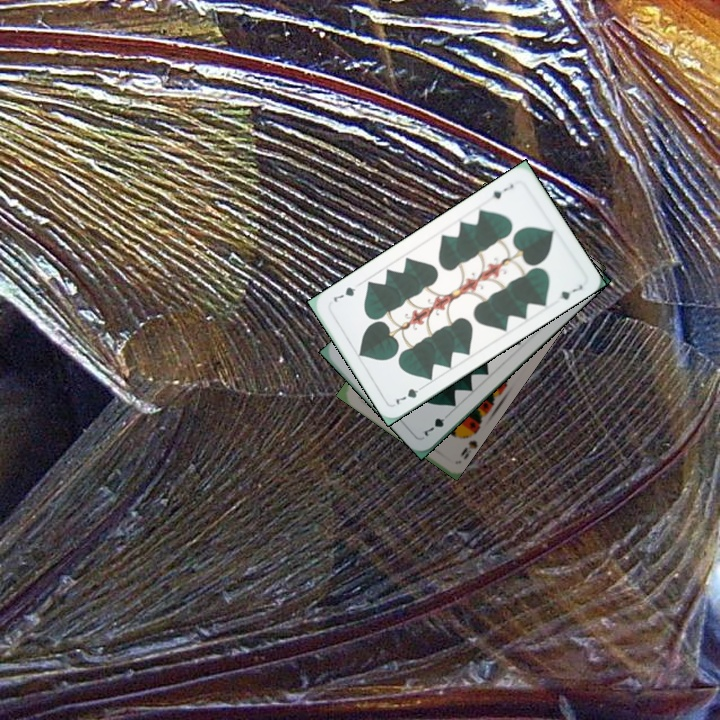G7: (420, 408, 453, 439), (392, 381, 428, 409), (488, 179, 516, 202)
S9: (456, 425, 480, 461)
